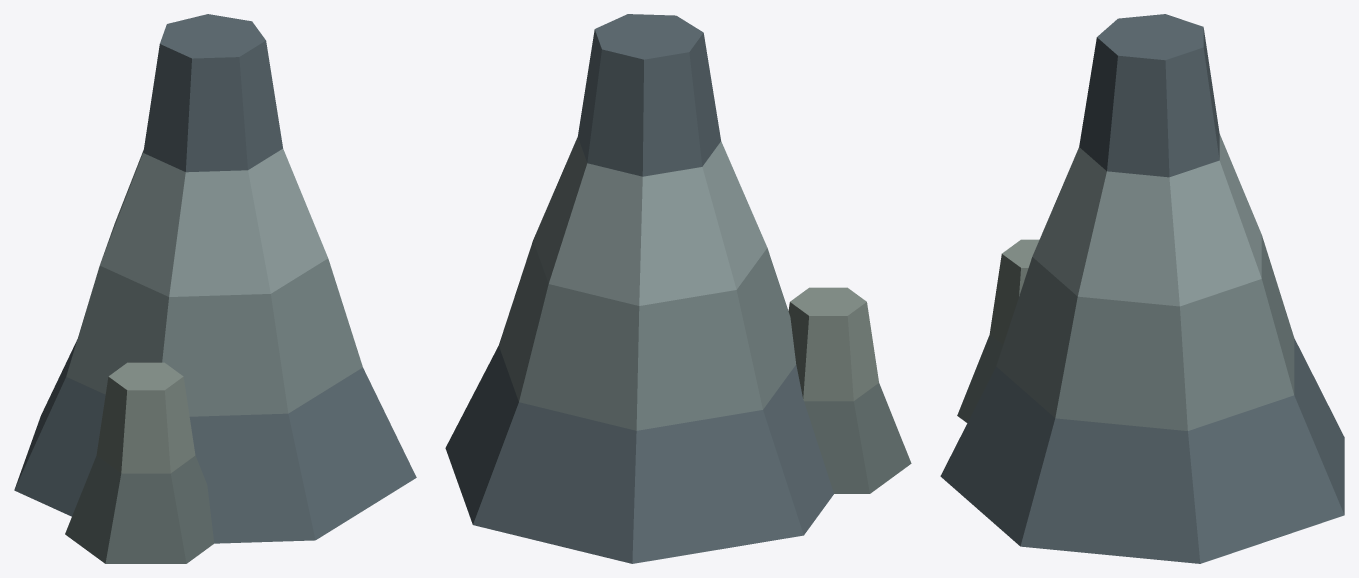
Rendered from granite-needle.glb.
The picture shows the model from 3 angles, left to right: view 1: azimuth 30°, elevation 25°; view 2: azimuth 150°, elevation 25°; view 3: azimuth 270°, elevation 25°; orthographic projection. The views are drawn at different scales.
Visible parts, largest first — view 1: granite-needle; view 2: granite-needle; view 3: granite-needle.
Boxes of the visible parts, x1,y1,x2,y2 form: granite-needle: (14, 14, 416, 563); granite-needle: (445, 14, 911, 563); granite-needle: (940, 14, 1344, 563).
Bounding box in the file's own units: 6.19 × 7.1 × 5.92.
